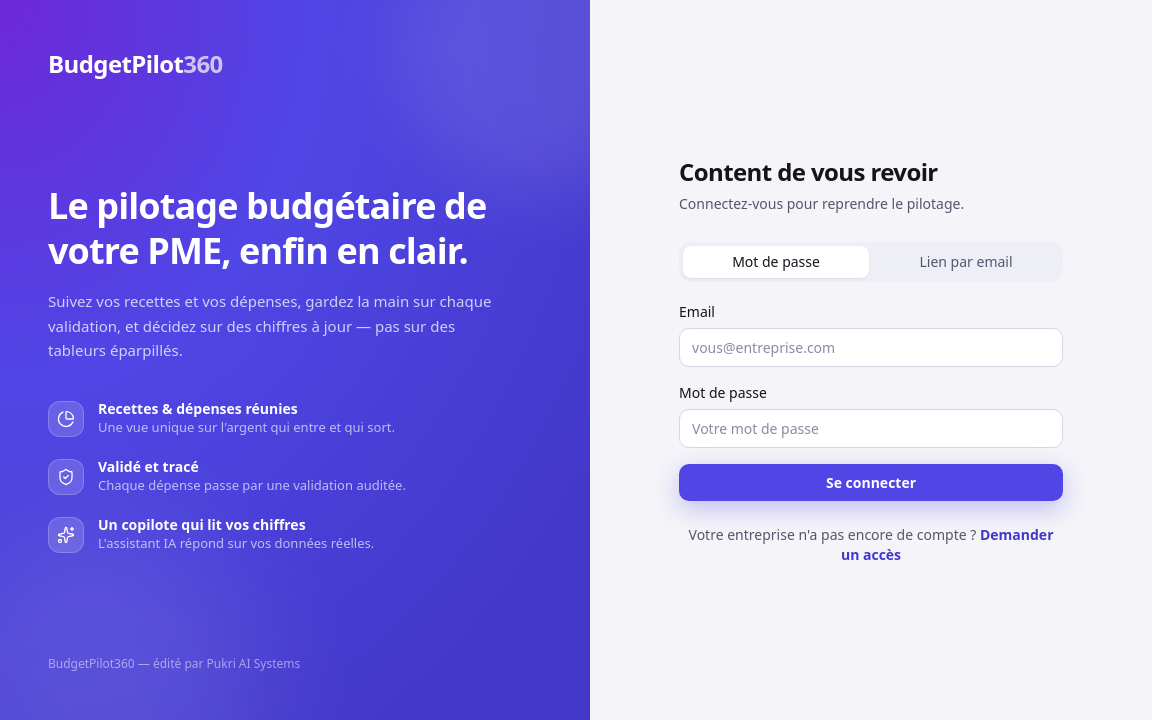
LoginPage › envoie un lien magique sans jamais créer de compte
This screenshot has width=1152, height=720.
Click the tab "Lien par email" at (966, 262), box 873,246 -> 1059,278
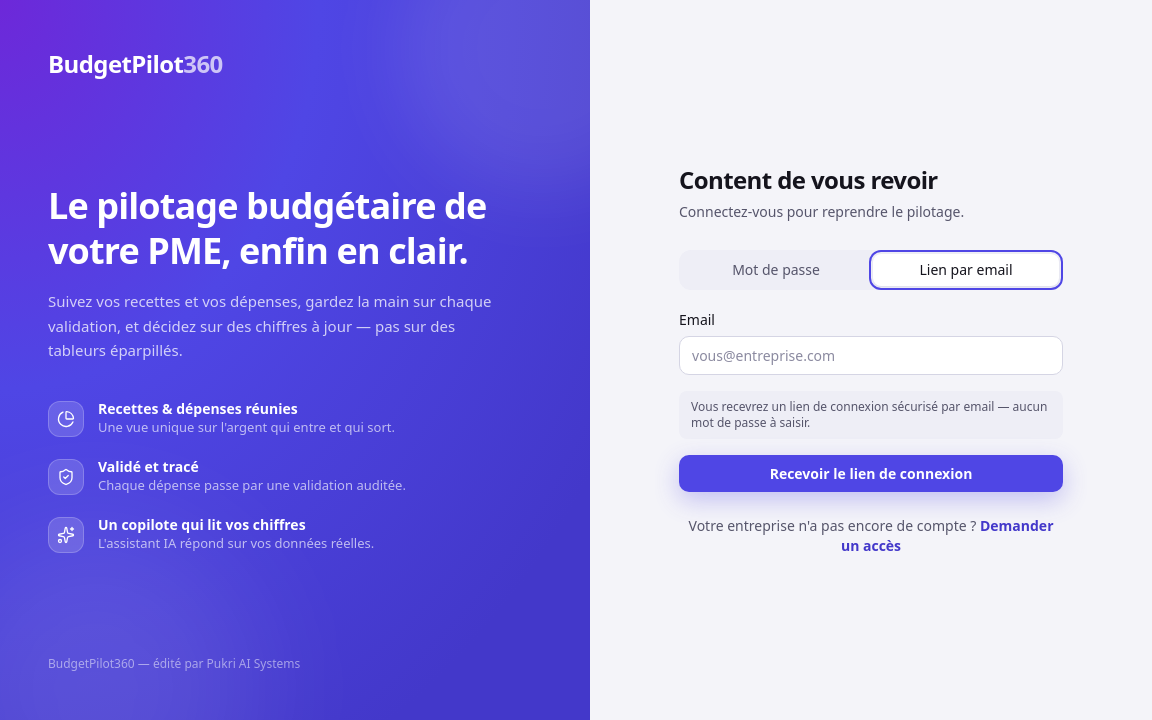
Type "admin@acme-corp.fr" into the field labelled "Email" at (871, 356), box 679,336 -> 1063,375
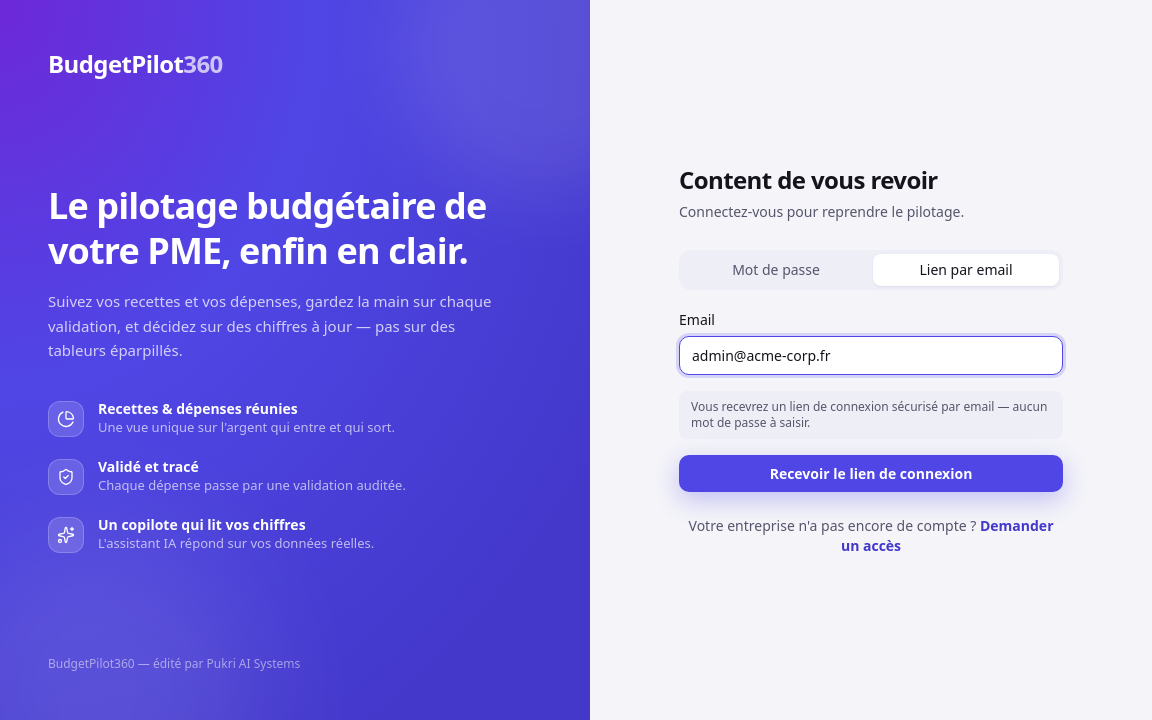
Click the button "Recevoir le lien de connexion" at (871, 474), box 679,455 -> 1063,492
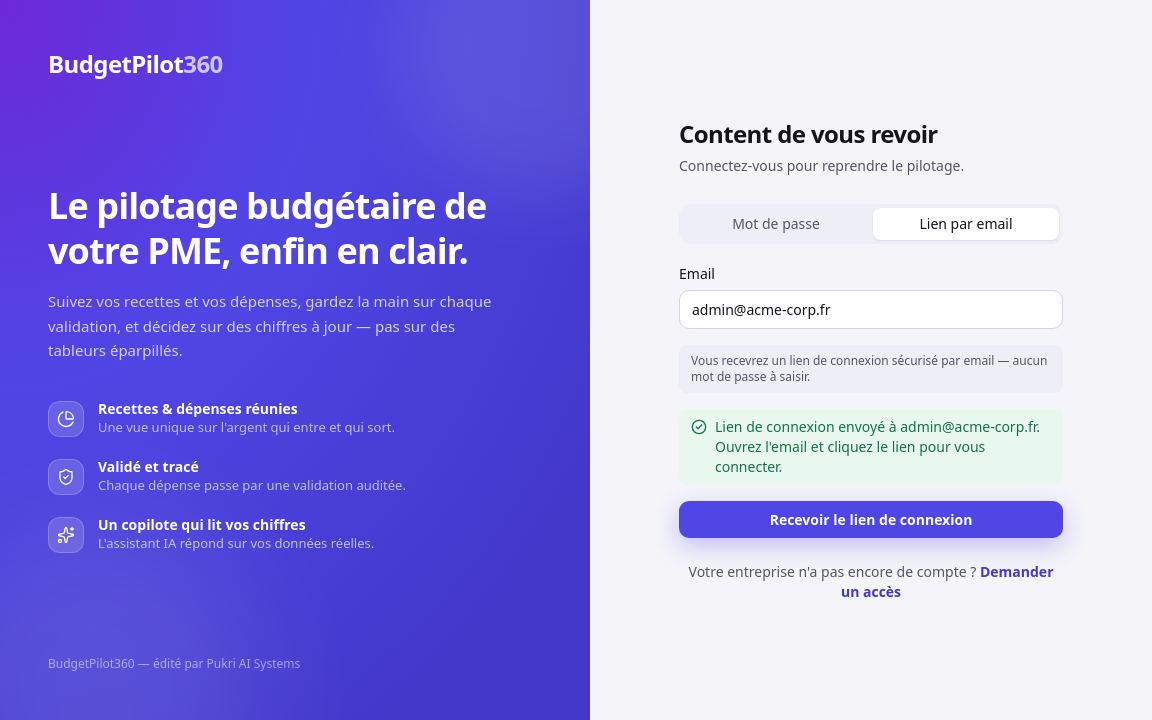
Result: the text "Lien de connexion envoyé" is shown at 715,417 -> 1040,476
